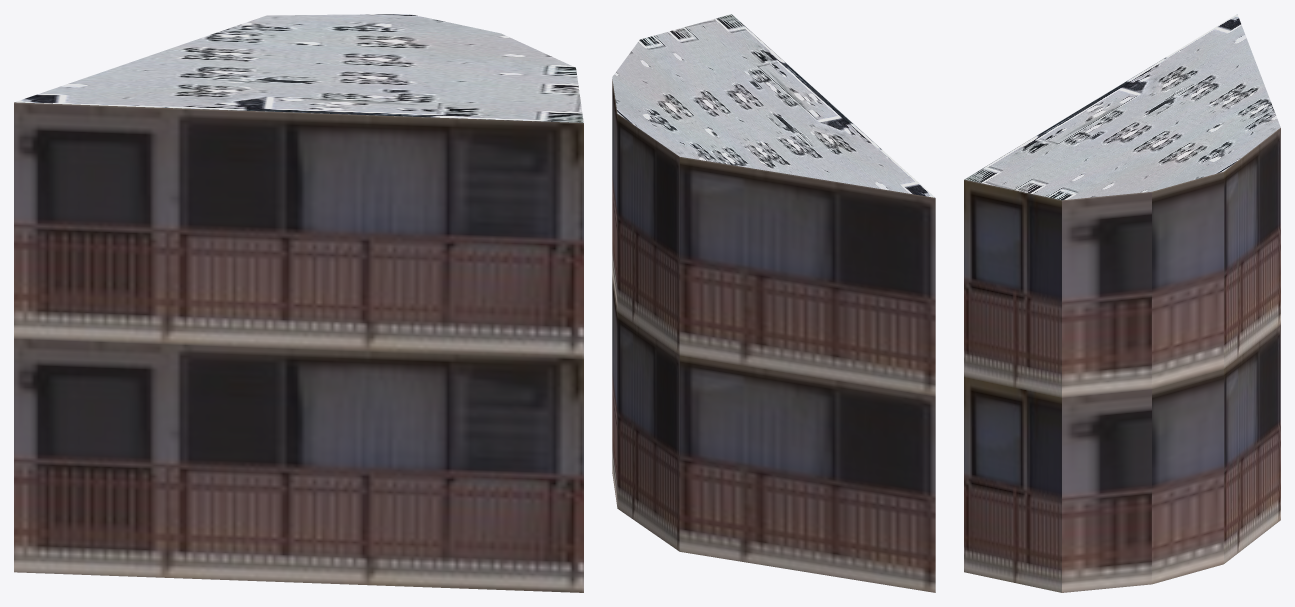
File: ResTex__5163.fbx
3 renders of one model, left to right at view 1: azimuth 30°, elevation 25°; view 2: azimuth 150°, elevation 25°; view 3: azimuth 270°, elevation 25°, orthographic. The views are drawn at different scales.
Visible parts, largest first — view 1: CityEngineMaterial_6_m, CityEngineMaterial_4_m; view 2: CityEngineMaterial_6_m, CityEngineMaterial_4_m; view 3: CityEngineMaterial_6_m, CityEngineMaterial_4_m.
Boxes of the visible parts, x1,y1,x2,y2 form: CityEngineMaterial_6_m: [14, 102, 583, 592]; CityEngineMaterial_4_m: [15, 14, 583, 122]; CityEngineMaterial_6_m: [612, 79, 935, 592]; CityEngineMaterial_4_m: [612, 14, 935, 197]; CityEngineMaterial_6_m: [964, 128, 1280, 592]; CityEngineMaterial_4_m: [964, 14, 1280, 200].
Size of the model in its own units: 6.11 by 6 by 4.39.
Materials: 2 (2 with a texture image).
